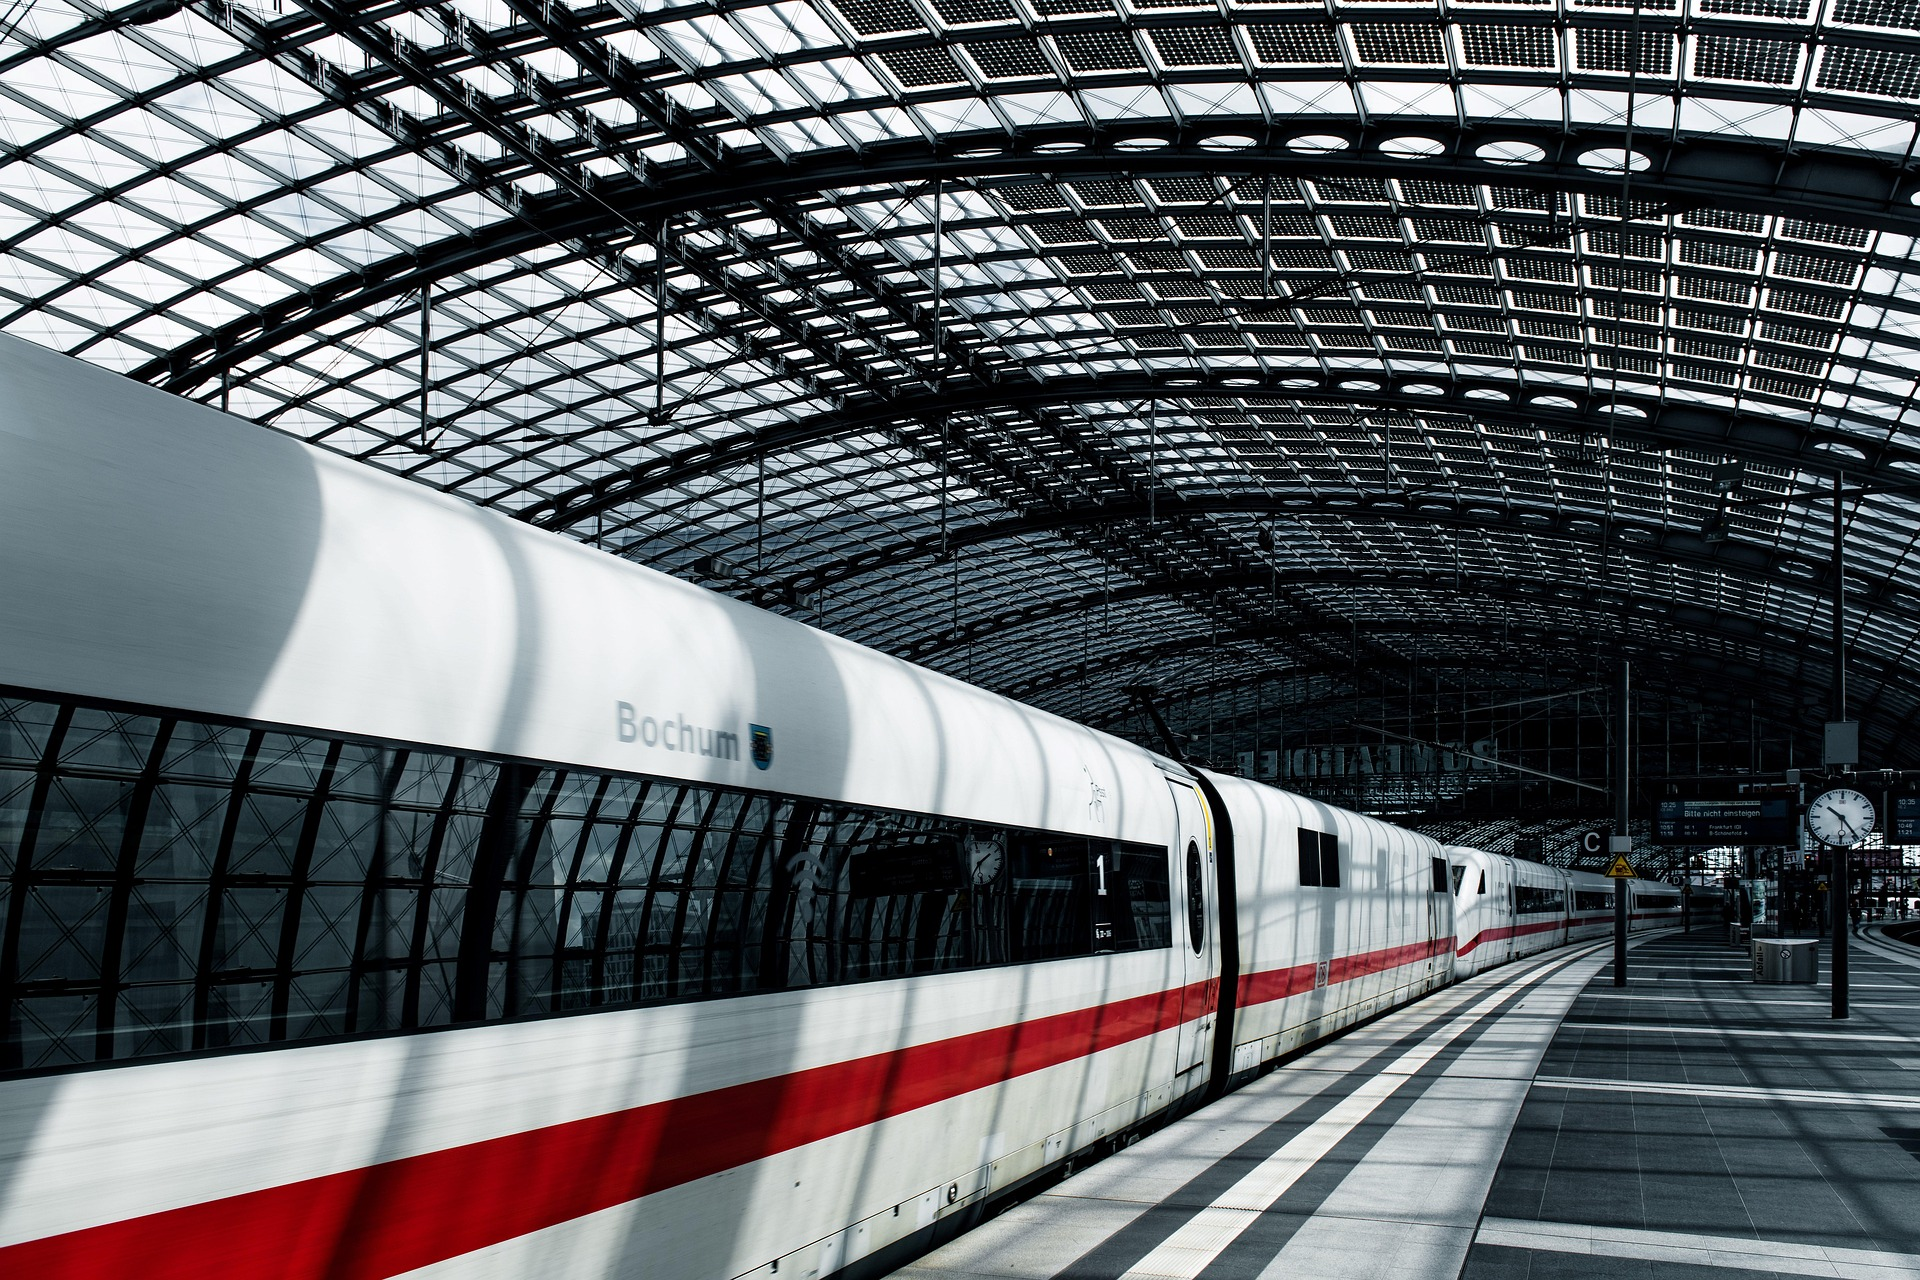train1: (3, 326, 1460, 1276)
